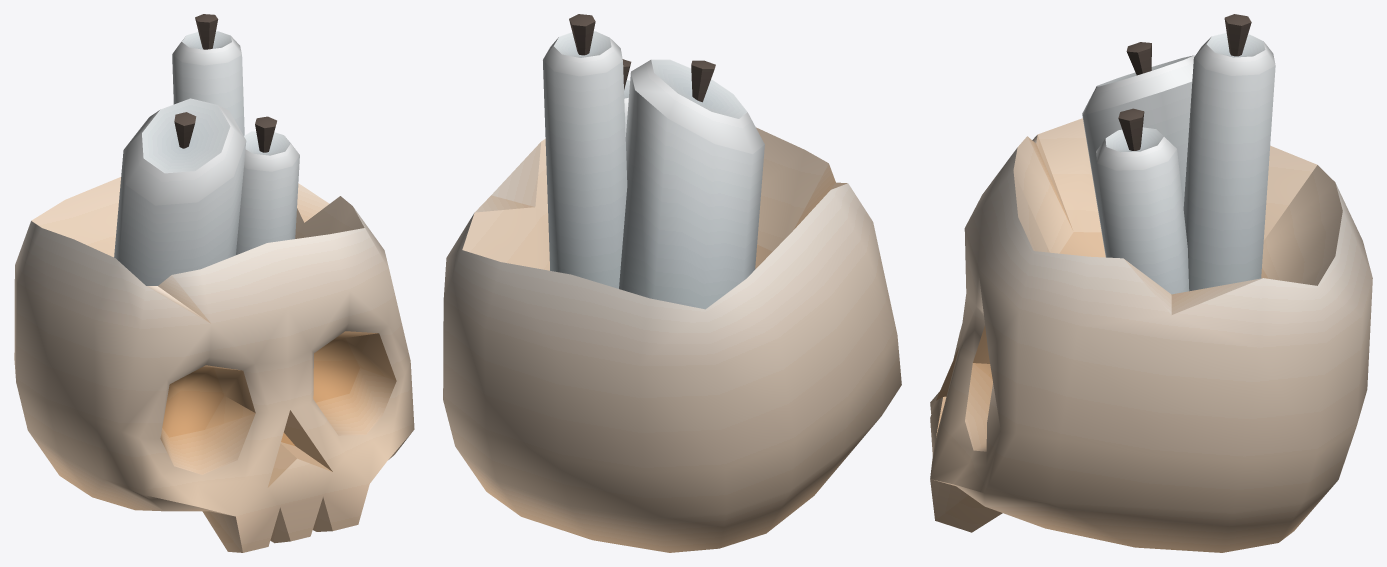
File: hb_skull_candle.glb
3 renders of one model, left to right at view 1: azimuth 30°, elevation 25°; view 2: azimuth 150°, elevation 25°; view 3: azimuth 270°, elevation 25°, orthographic. The views are drawn at different scales.
Parts seen in each view (by area): view 1: skull_candle; view 2: skull_candle; view 3: skull_candle.
Boxes of the visible parts, x1,y1,x2,y2 form: skull_candle: (14,14,414,552); skull_candle: (443,14,901,552); skull_candle: (930,14,1372,552).
Size of the model in its own units: 0.2705 by 0.35 by 0.276.
1 material, 1 textured.
